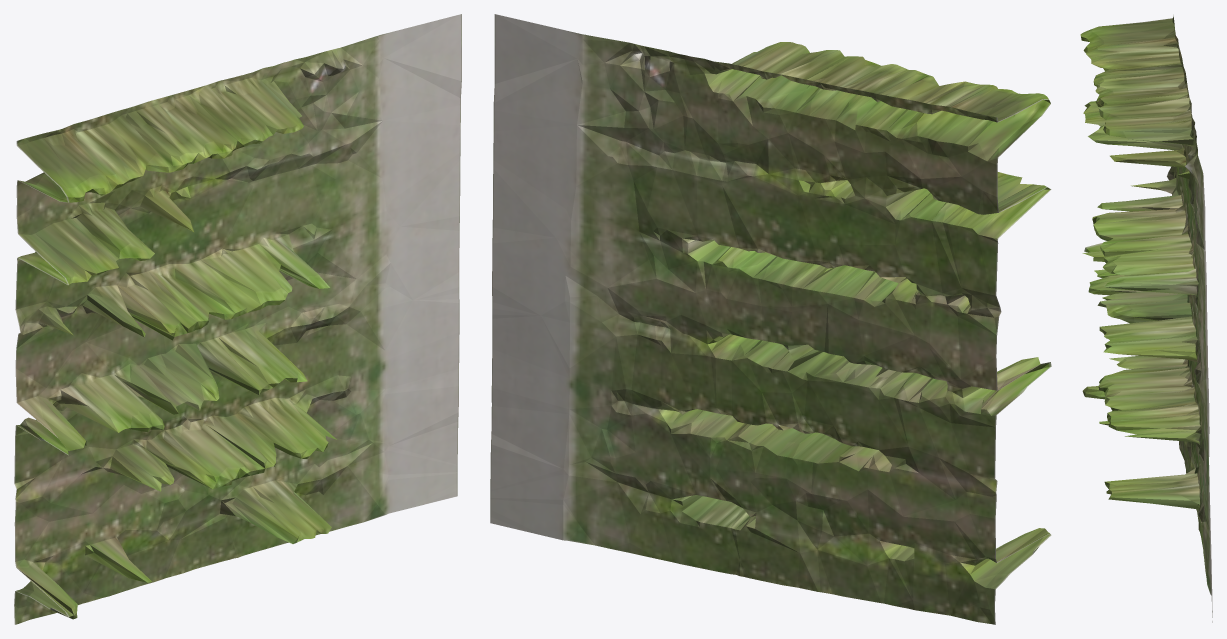
The model's file is map_110_80.obj.
3 views of the same model, side by side, from view 1: azimuth 30°, elevation 25°; view 2: azimuth 150°, elevation 25°; view 3: azimuth 270°, elevation 25° (orthographic). The views are drawn at different scales.
Visible parts, largest first — view 1: grp1; view 2: grp1; view 3: grp1.
Part boxes in pixels (<box>): grp1: <box>14,14,461,624</box>; grp1: <box>490,14,1051,624</box>; grp1: <box>1080,15,1212,622</box>.
Size of the model in its own units: 10 by 10 by 2.87.
1 material, 1 textured.
